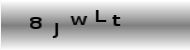8: (29, 16, 42, 29)
J: (51, 22, 58, 38)
L: (94, 9, 107, 23)
t: (111, 14, 121, 27)
w: (69, 15, 88, 25)
